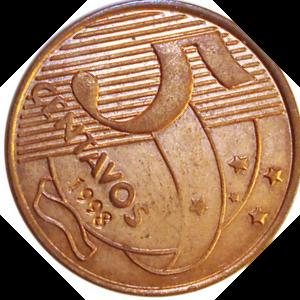5 cent: (3, 0, 299, 297)
